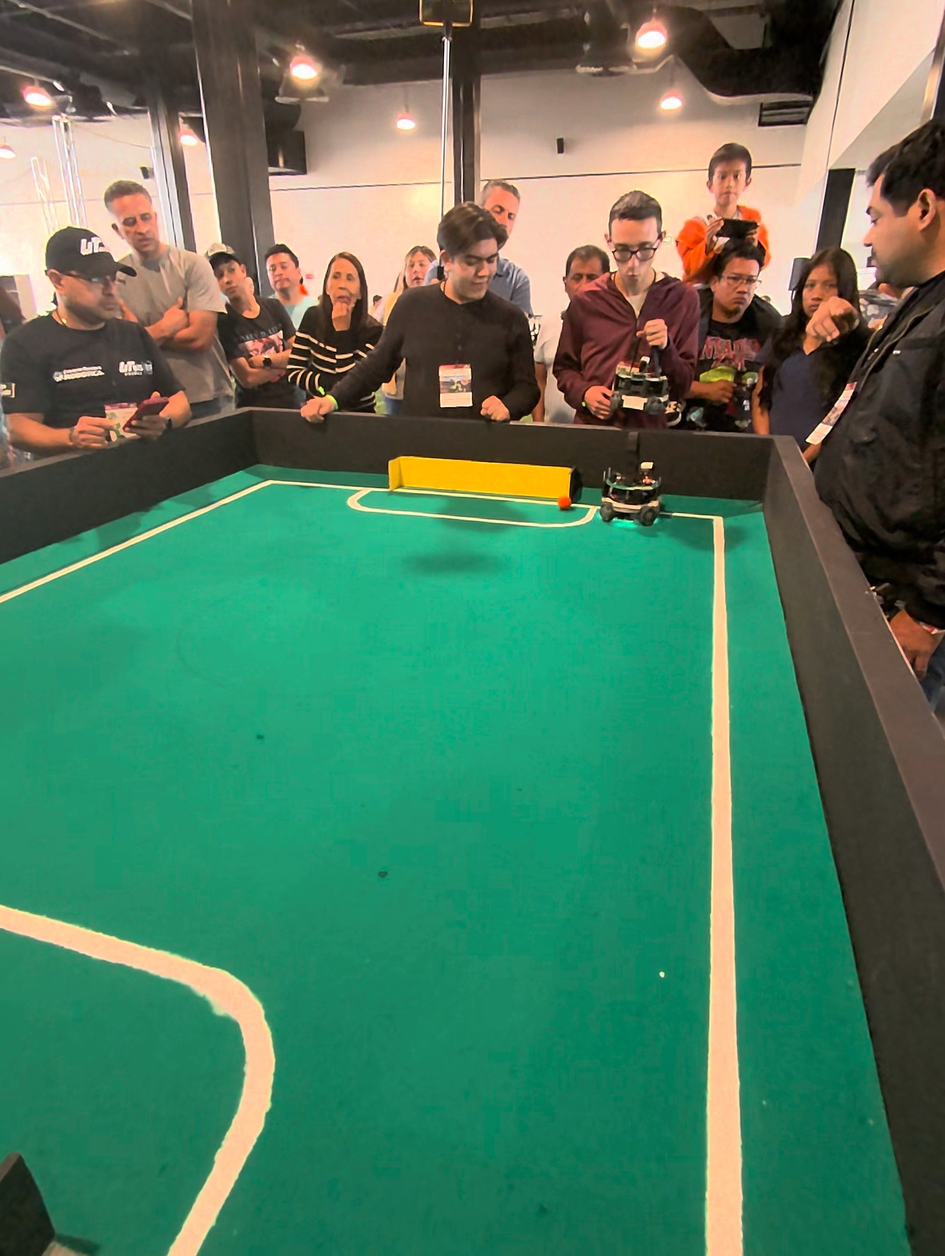Robot: (596, 431, 669, 537)
pelota: (555, 485, 581, 519)
